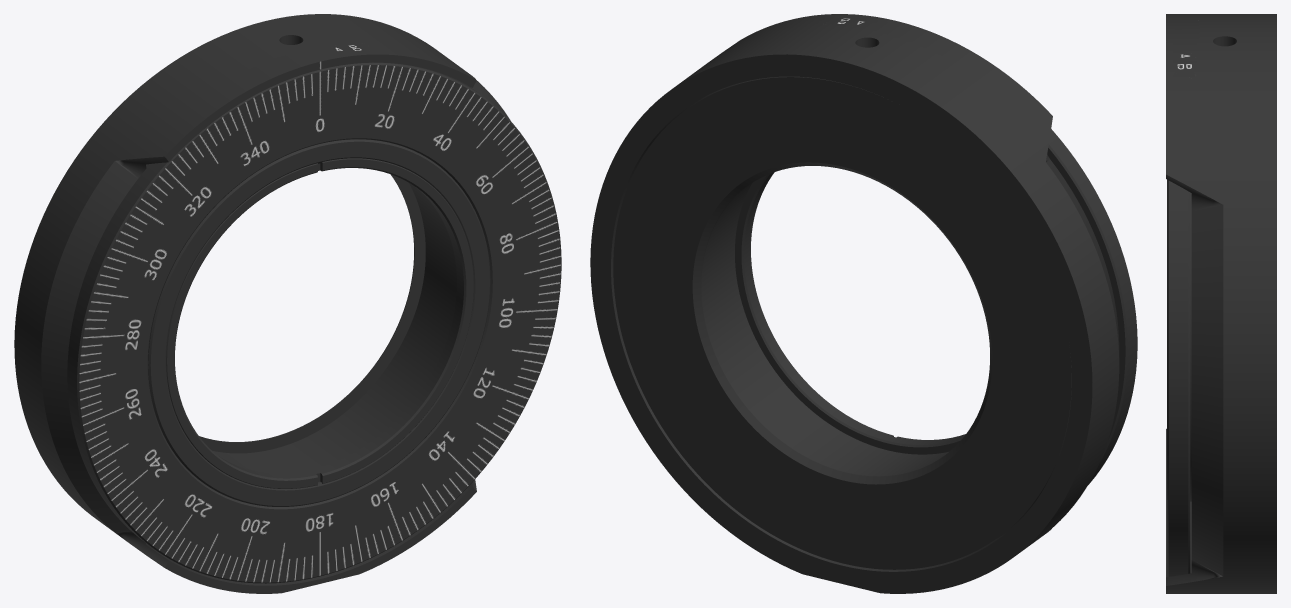
Rendered from RSP2_M.glb.
3 renders of one model, left to right at view 1: azimuth 30°, elevation 25°; view 2: azimuth 150°, elevation 25°; view 3: azimuth 270°, elevation 25°, orthographic.
Parts seen in each view (by area): view 1: rotor, housing, retaining_ring; view 2: rotor, housing, retaining_ring; view 3: housing, rotor.
Boxes of the visible parts, x1,y1,x2,y2 form: rotor: (67, 62, 561, 583); housing: (14, 14, 510, 593); retaining_ring: (166, 158, 473, 488); rotor: (613, 76, 1137, 569); housing: (590, 14, 1119, 593); retaining_ring: (735, 172, 965, 454); housing: (1166, 14, 1276, 593); rotor: (1167, 179, 1191, 576).
Size of the model in its own units: 0.0838 by 0.0833 by 0.016.
Materials: 2 (1 with a texture image).
